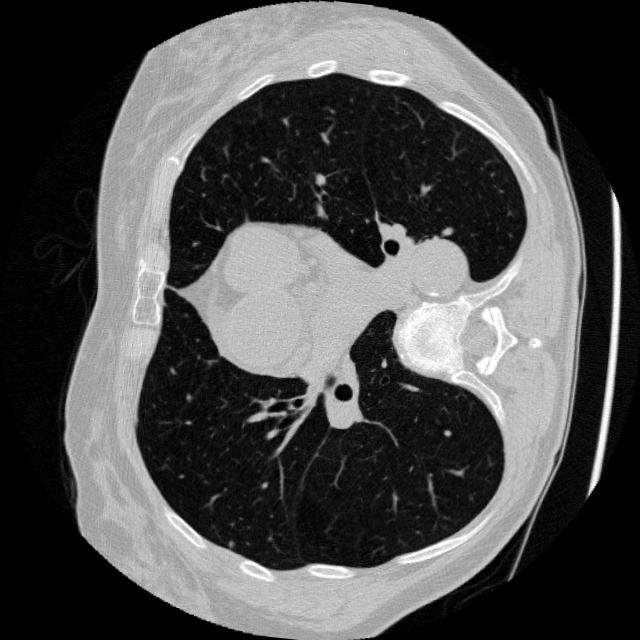nodule: (220, 534, 240, 554)
